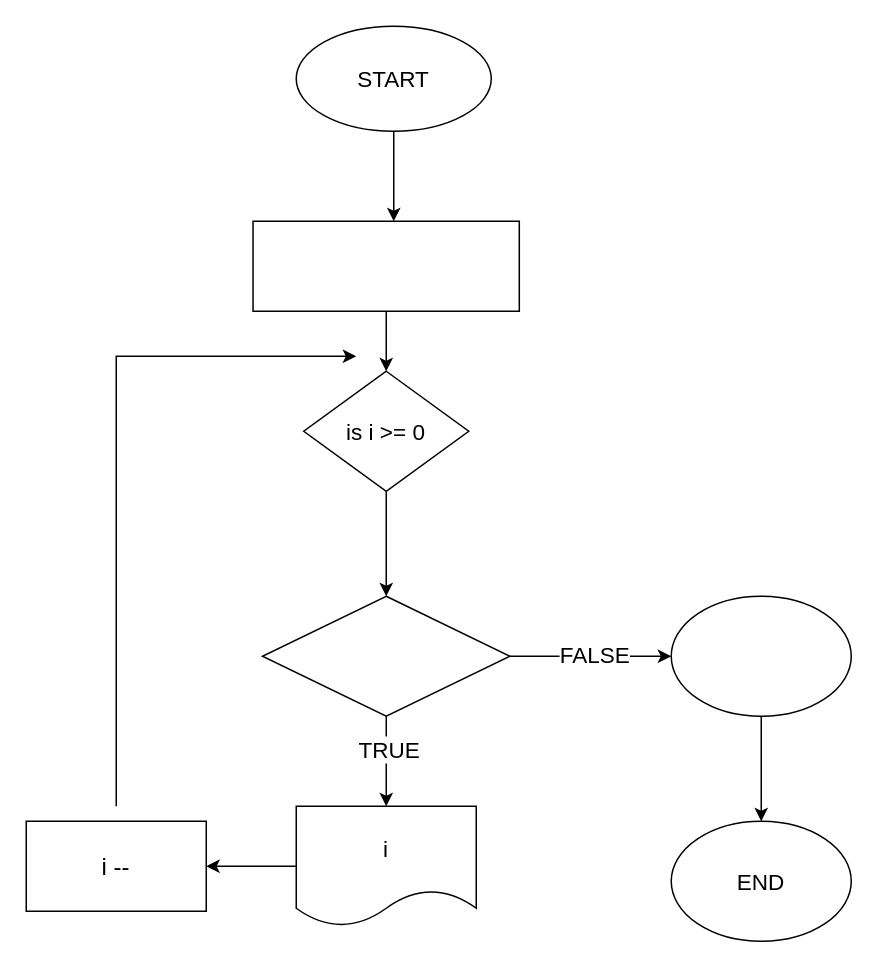
The diagram is 878 pixels wide and 968 high, and some of its shapes have lost their labels. Here are the shapes that lost their labels. From the top down, the centre of each, then its label:
the point at 385,265: int i = array.length - 1
the point at 385,655: is array[i] == target
the point at 760,655: return -1
